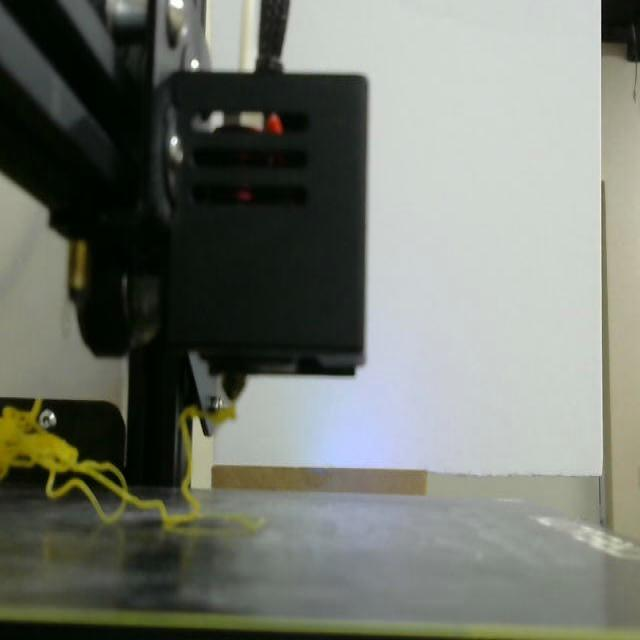spaghetti: (0, 398, 233, 528)
